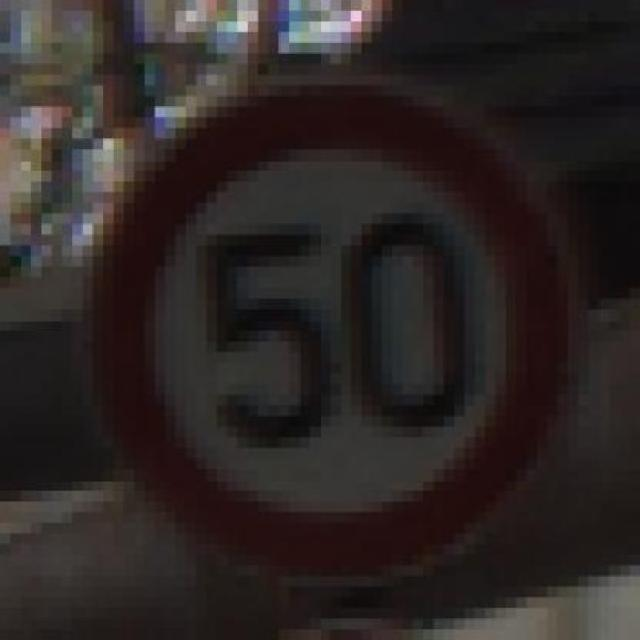50 mph speed limit: (70, 54, 587, 609)
